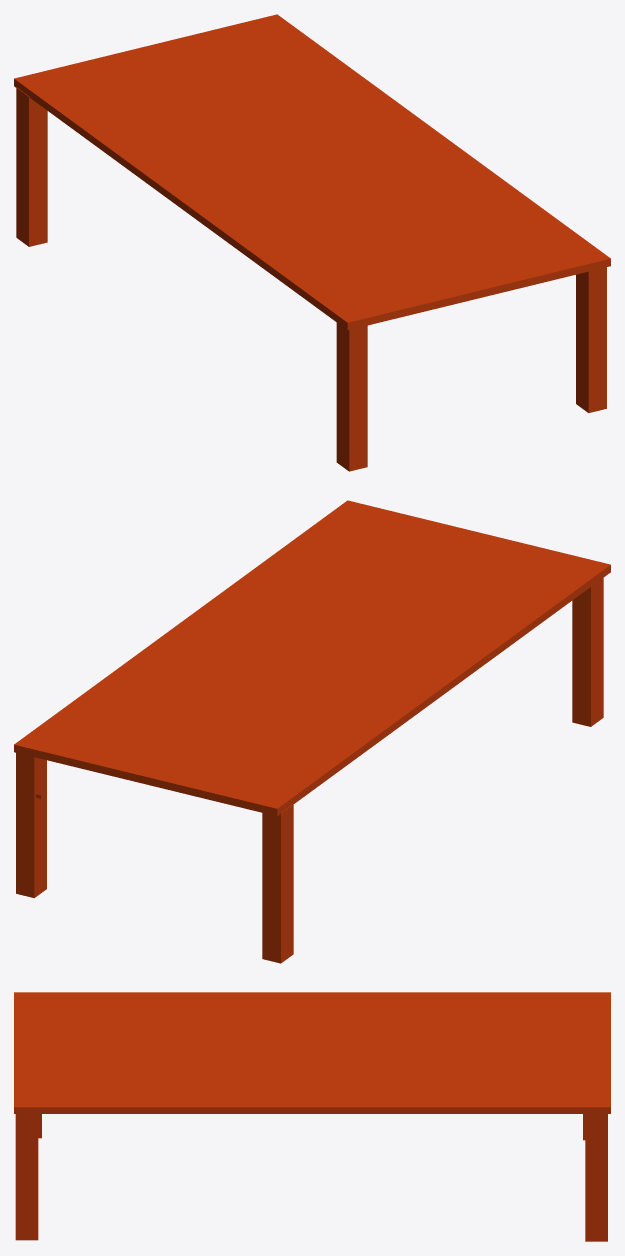
The model's file is table1obj.obj.
3 renders of one model, top to bottom at view 1: azimuth 30°, elevation 25°; view 2: azimuth 150°, elevation 25°; view 3: azimuth 270°, elevation 25°, orthographic. The views are drawn at different scales.
Parts seen in each view (by area): view 1: Cube.002_Cube.017; view 2: Cube.002_Cube.017; view 3: Cube.002_Cube.017.
Part boxes in pixels (box(x1,y1,x2,y2)): Cube.002_Cube.017: box(14, 14, 610, 471); Cube.002_Cube.017: box(14, 500, 610, 963); Cube.002_Cube.017: box(14, 992, 610, 1241).
Size of the model in its own units: 8.24 by 4.68 by 18.03.
